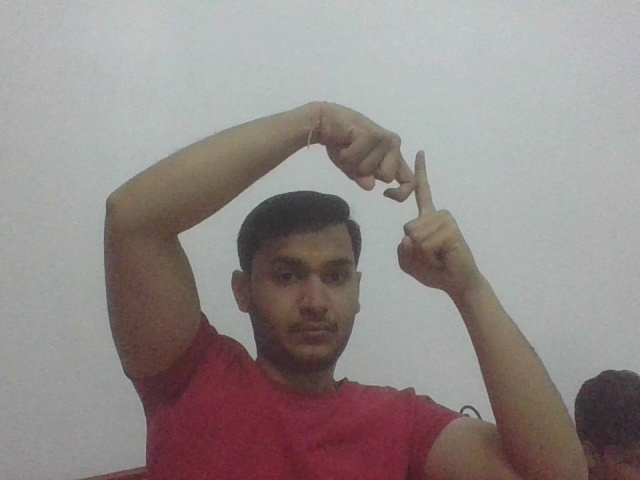K: (375, 131, 455, 232)
